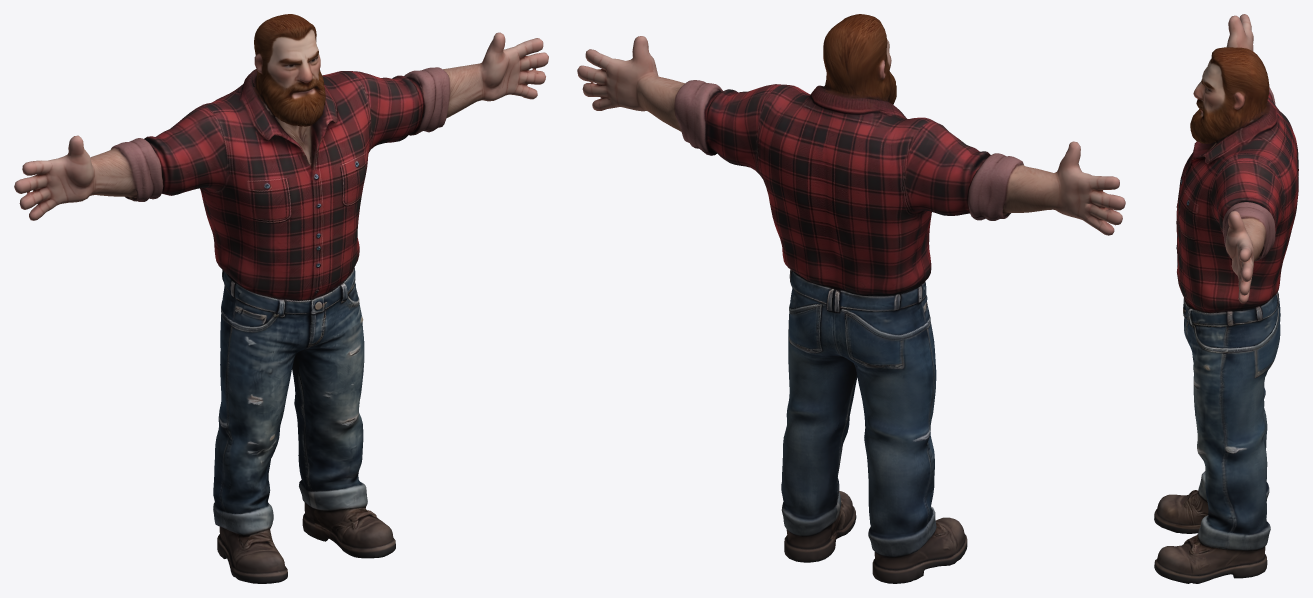
The model's file is 019_orig.glb.
3 views of the same model, side by side, from view 1: azimuth 30°, elevation 25°; view 2: azimuth 150°, elevation 25°; view 3: azimuth 270°, elevation 25° (orthographic). The views are drawn at different scales.
Visible parts, largest first — view 1: geometry_0; view 2: geometry_0; view 3: geometry_0.
Boxes of the visible parts, <box> form: geometry_0: <box>14,14,548,583</box>; geometry_0: <box>577,14,1125,583</box>; geometry_0: <box>1154,14,1298,583</box>.
Bounding box in the file's own units: 1 × 0.9435 × 0.2478.
1 material, 1 textured.
